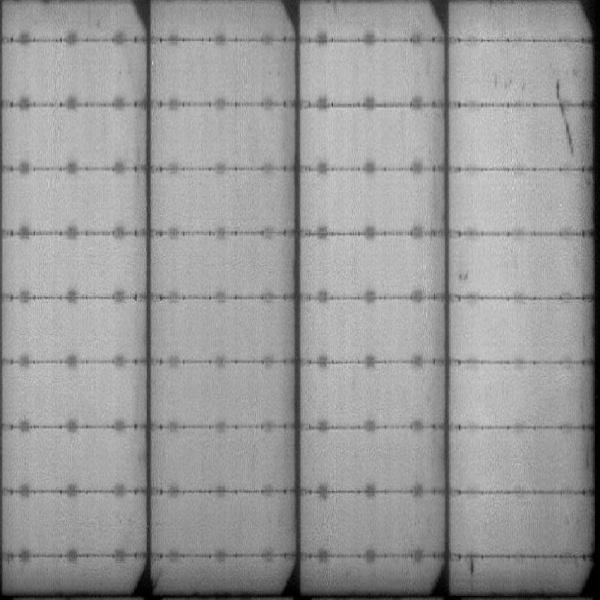scratch: (552, 80, 575, 156)
